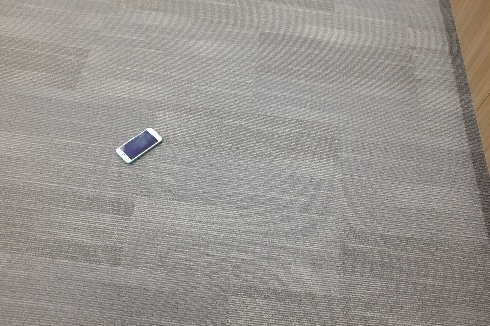phone: (117, 129, 166, 161)
